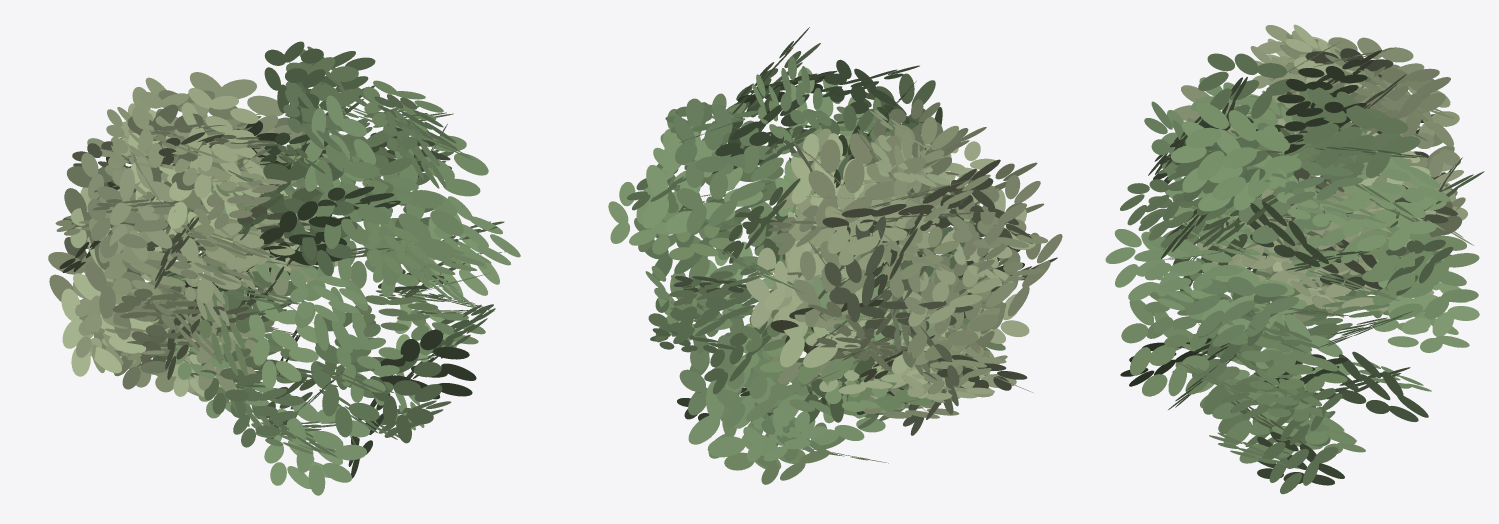
The model's file is campus-tree--7_-7-near.glb.
3 renders of one model, left to right at view 1: azimuth 30°, elevation 25°; view 2: azimuth 150°, elevation 25°; view 3: azimuth 270°, elevation 25°, orthographic. The views are drawn at different scales.
Parts seen in each view (by area): view 1: Campus leaf canopy; view 2: Campus leaf canopy; view 3: Campus leaf canopy.
Part boxes in pixels (x1,y1,x2,y2): Campus leaf canopy: [48, 41, 520, 495]; Campus leaf canopy: [608, 27, 1062, 484]; Campus leaf canopy: [1105, 24, 1484, 494].
Size of the model in its own units: 5.42 by 5.41 by 4.25.
1 material, 1 textured.
